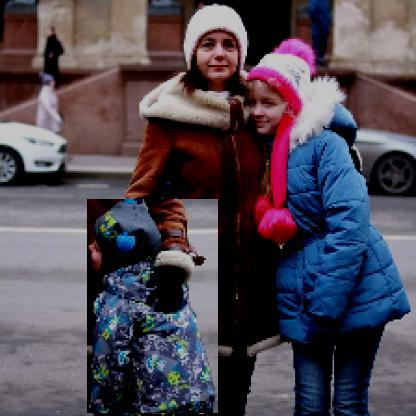child: (88, 200, 220, 415)
